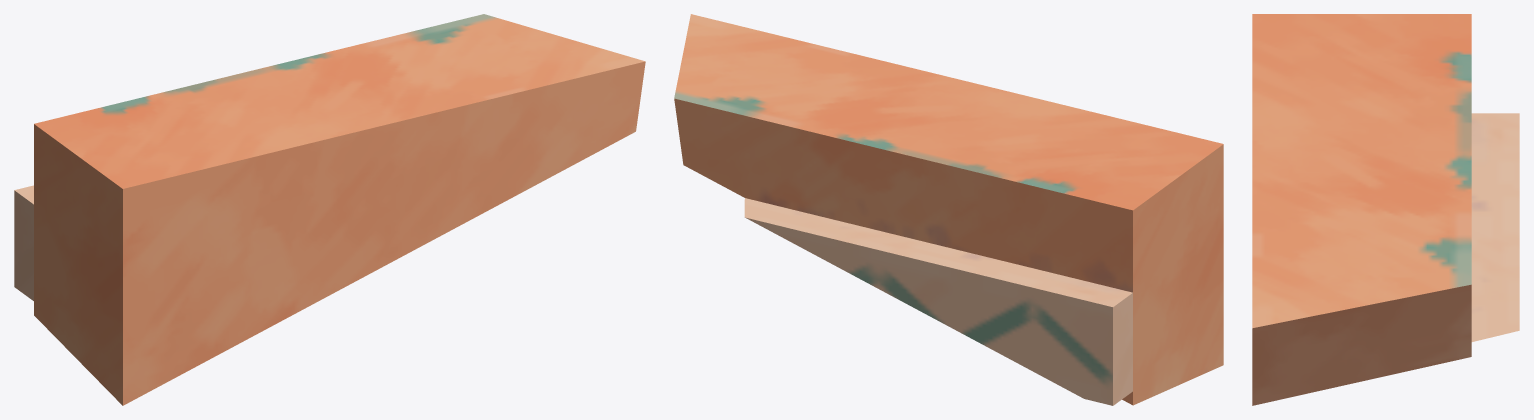
File: wall2_shutter_s10.fbx
3 renders of one model, left to right at view 1: azimuth 30°, elevation 25°; view 2: azimuth 150°, elevation 25°; view 3: azimuth 270°, elevation 25°, orthographic. The views are drawn at different scales.
Visible parts, largest first — view 1: wall2_shutter_s10; view 2: wall2_shutter_s10; view 3: wall2_shutter_s10.
Part boxes in pixels (x1=…): wall2_shutter_s10: x1=14, y1=14, x2=645, y2=405; wall2_shutter_s10: x1=674, y1=14, x2=1223, y2=405; wall2_shutter_s10: x1=1252, y1=14, x2=1519, y2=405.
Size of the model in its own units: 3.39 by 1.34 by 1.22.
